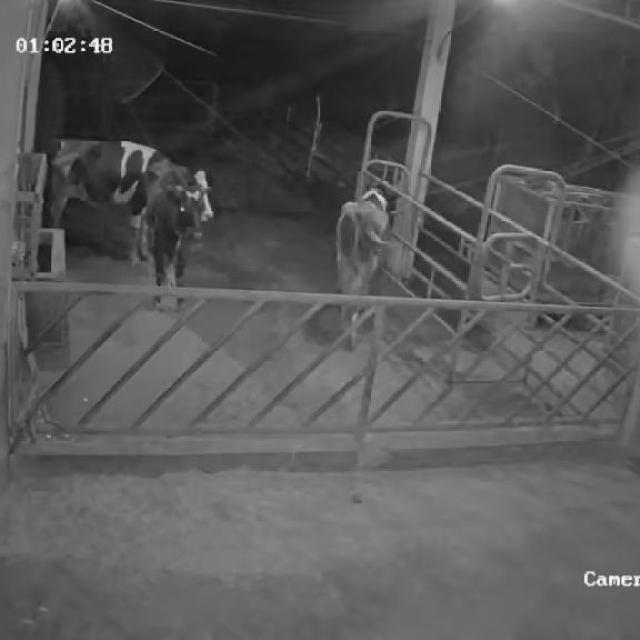standing: (37, 131, 213, 265), (334, 183, 393, 353), (139, 180, 200, 310)
